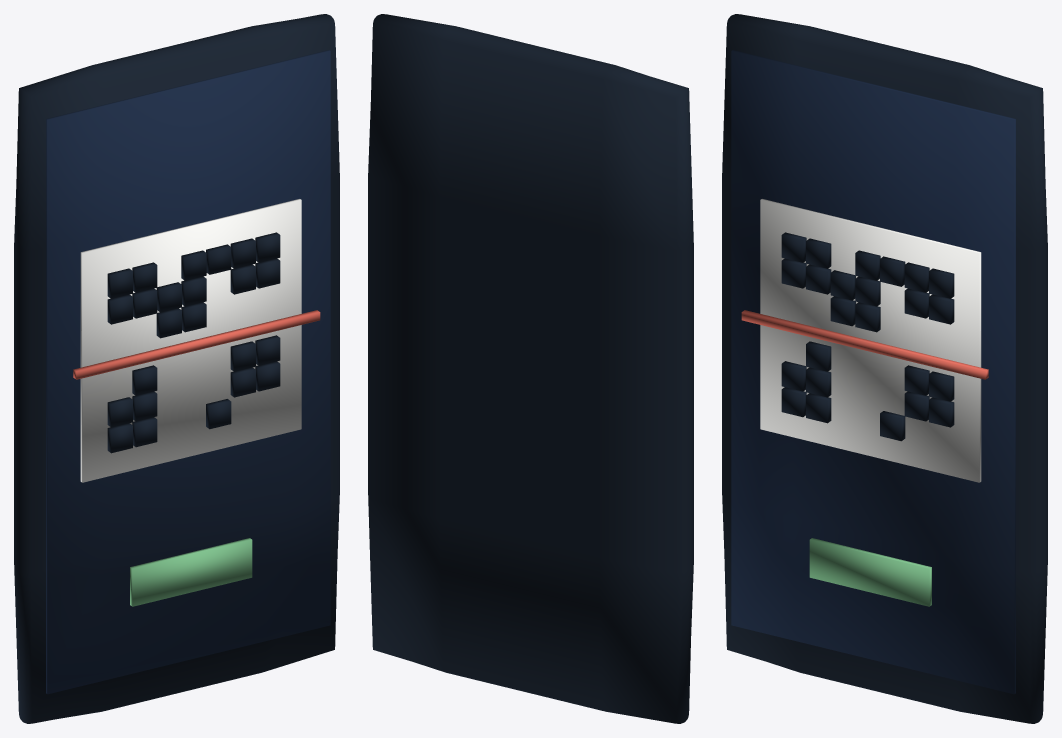
Rendered from scan.glb.
3 renders of one model, left to right at view 1: azimuth 30°, elevation 25°; view 2: azimuth 150°, elevation 25°; view 3: azimuth 330°, elevation 25°, orthographic.
Parts seen in each view (by area): view 1: scan; view 2: scan; view 3: scan.
Part boxes in pixels (<box>): scan: <box>14,14,339,723</box>; scan: <box>368,14,693,723</box>; scan: <box>722,14,1047,723</box>.
Bounding box in the file's own units: 1.3 × 2.5 × 0.2308.
